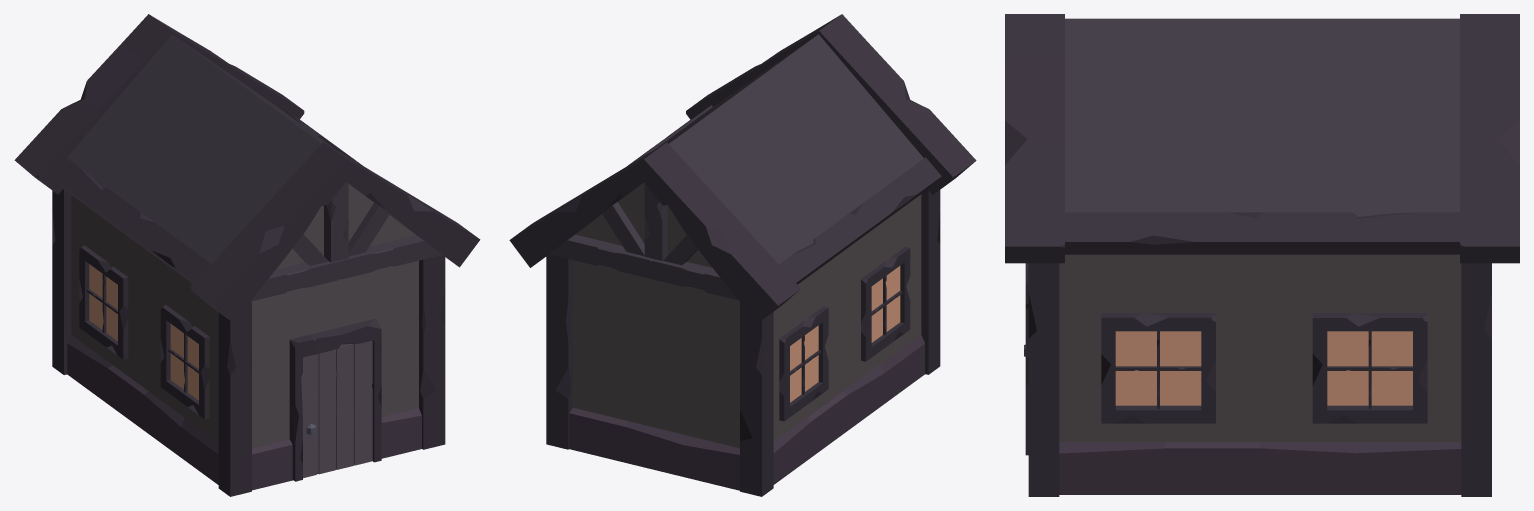
The model's file is house.fbx.
The picture shows the model from 3 angles, left to right: view 1: azimuth 30°, elevation 25°; view 2: azimuth 150°, elevation 25°; view 3: azimuth 270°, elevation 25°; orthographic projection. The views are drawn at different scales.
Visible parts, largest first — view 1: polySurface19; view 2: polySurface19; view 3: polySurface19.
Part boxes in pixels (x1,y1,x2,y2): polySurface19: (14,14,480,496); polySurface19: (509,14,976,496); polySurface19: (1005,14,1519,496).
Bounding box in the file's own units: 4.65 × 5.29 × 5.95.
